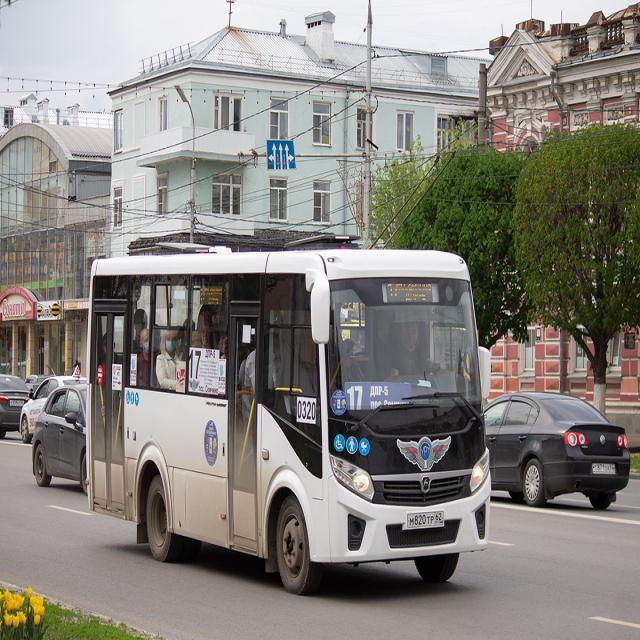number-of-bus: (347, 383, 364, 414), (189, 349, 204, 379)
